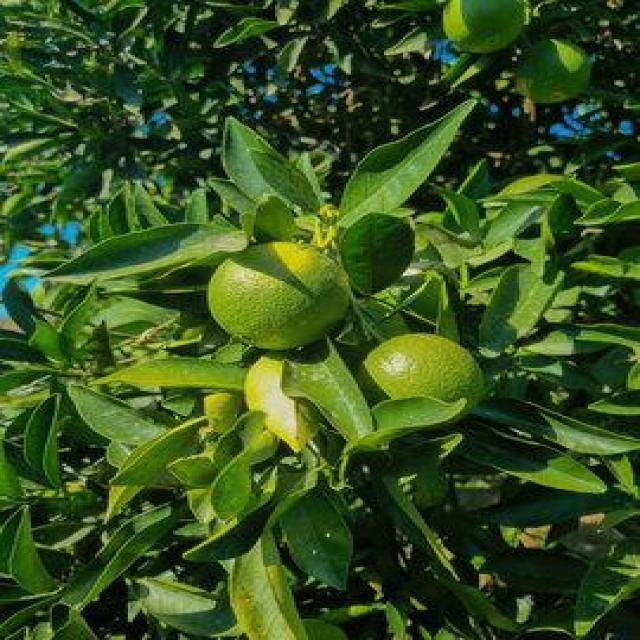Jeruk Belum Matang: (208, 240, 350, 350), (351, 334, 484, 418), (512, 37, 595, 105), (440, 0, 528, 53)
